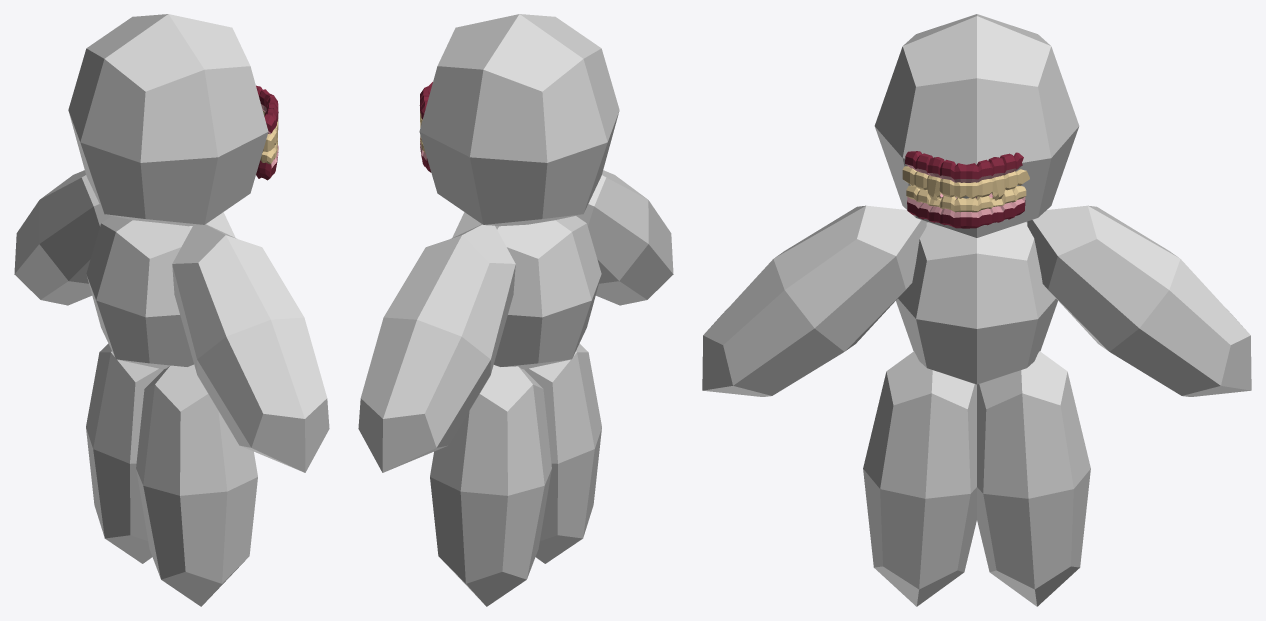
Rendered from Father.fbx.
3 views of the same model, side by side, from view 1: azimuth 30°, elevation 25°; view 2: azimuth 150°, elevation 25°; view 3: azimuth 270°, elevation 25° (orthographic). The views are drawn at different scales.
Visible parts, largest first — view 1: Cube, Cube.002, Cube.003, Cube.001, Cube.008; view 2: Cube, Cube.002, Cube.003, Cube.001; view 3: Cube.002, Cube.003, Cube, Cube.001, Cube.004, Cube.008, Cube.005, Cube.009, Cube.007.
Boxes of the visible parts, x1=… form: Cube: x1=68, y1=14, x2=268, y2=226; Cube.002: x1=14, y1=170, x2=329, y2=472; Cube.003: x1=86, y1=343, x2=257, y2=606; Cube.001: x1=86, y1=212, x2=235, y2=369; Cube.008: x1=256, y1=85, x2=278, y2=132; Cube: x1=419, y1=14, x2=619, y2=226; Cube.002: x1=358, y1=170, x2=673, y2=472; Cube.003: x1=430, y1=343, x2=601, y2=606; Cube.001: x1=452, y1=212, x2=601, y2=369; Cube.002: x1=702, y1=205, x2=1251, y2=396; Cube.003: x1=863, y1=351, x2=1090, y2=606; Cube: x1=874, y1=14, x2=1079, y2=237; Cube.001: x1=896, y1=221, x2=1057, y2=384; Cube.004: x1=902, y1=166, x2=1029, y2=200; Cube.008: x1=905, y1=151, x2=1023, y2=179; Cube.005: x1=906, y1=185, x2=1026, y2=212; Cube.009: x1=907, y1=200, x2=1025, y2=228; Cube.007: x1=907, y1=193, x2=1025, y2=217.
Size of the model in its own units: 142 by 415 by 350.
